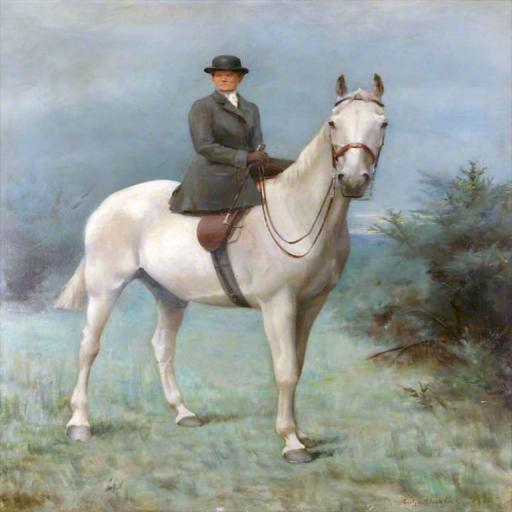horse: (52, 70, 392, 462)
